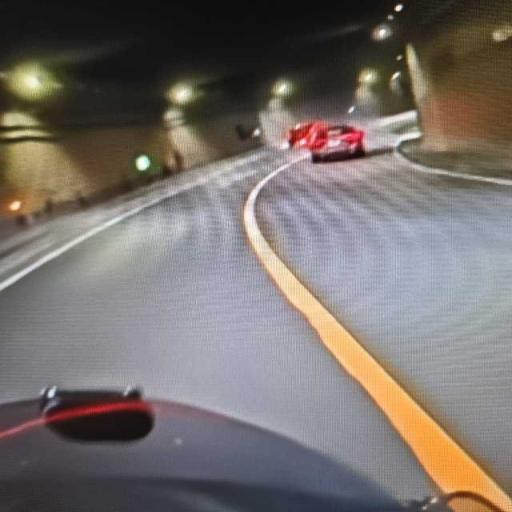car: (286, 122, 364, 162), (286, 122, 328, 148)
lane: (0, 158, 429, 498), (244, 158, 511, 510), (258, 155, 511, 491)
